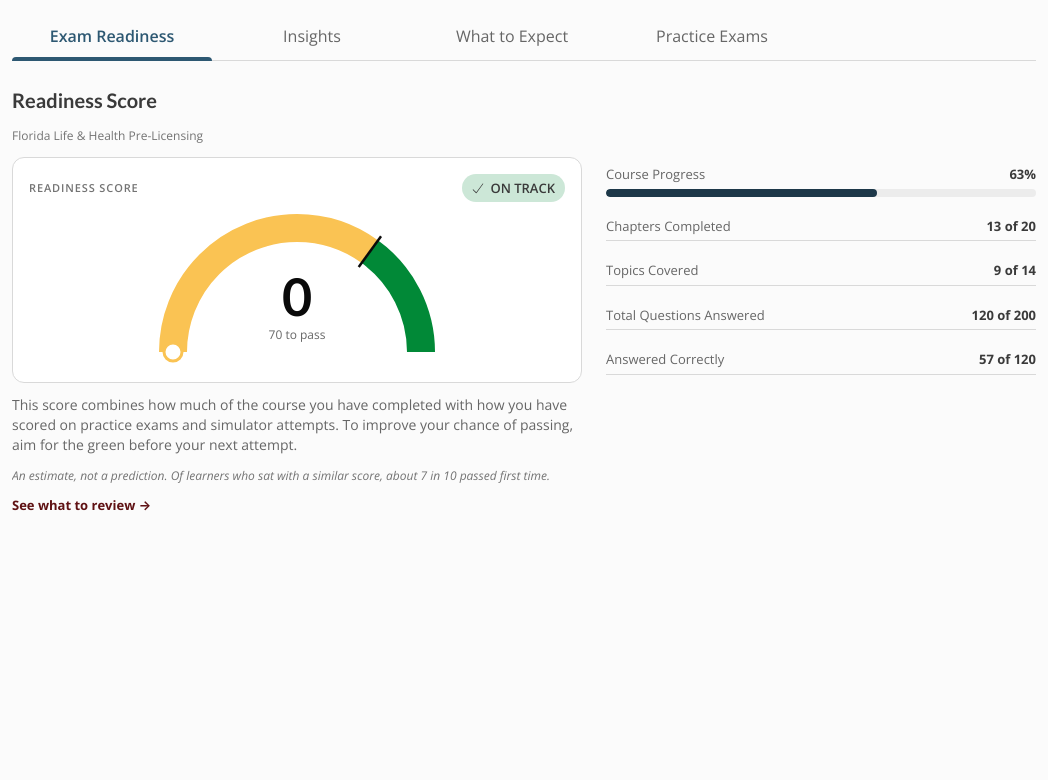
the tab set › hands off from the score to Insights
The width and height of the screenshot is (1048, 780).
Click the button "See what to review →": point(82, 506) [12,496,151,516]
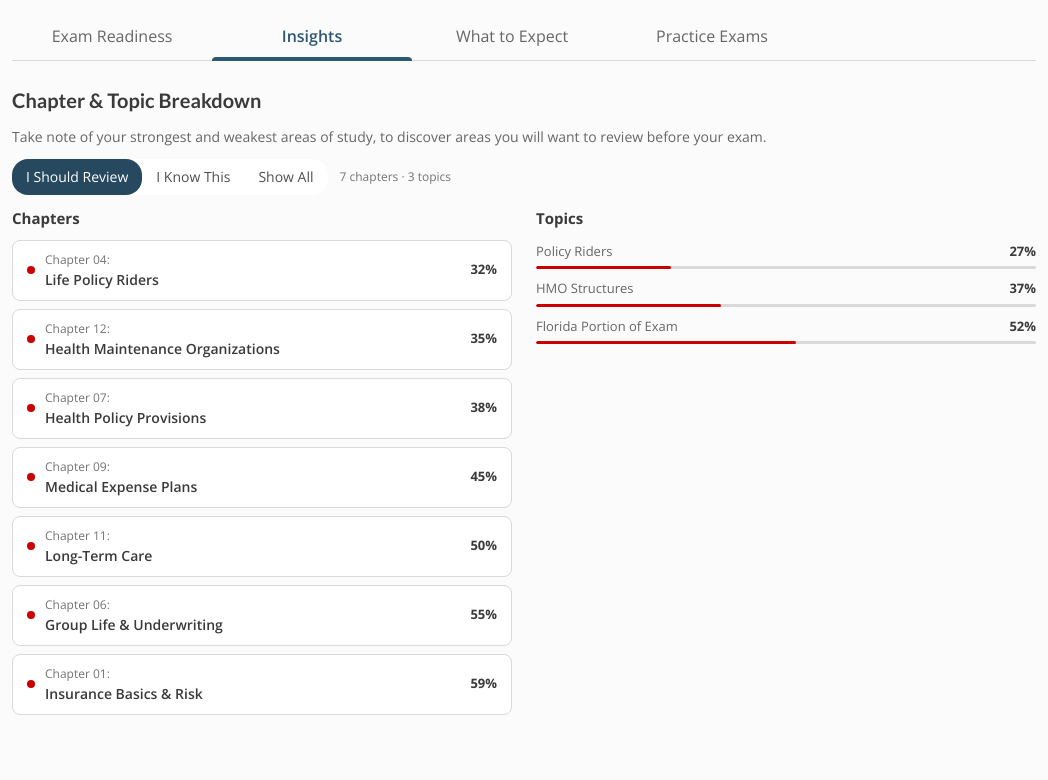
Result: the element "Chapters" is shown at [12,207,512,714]
